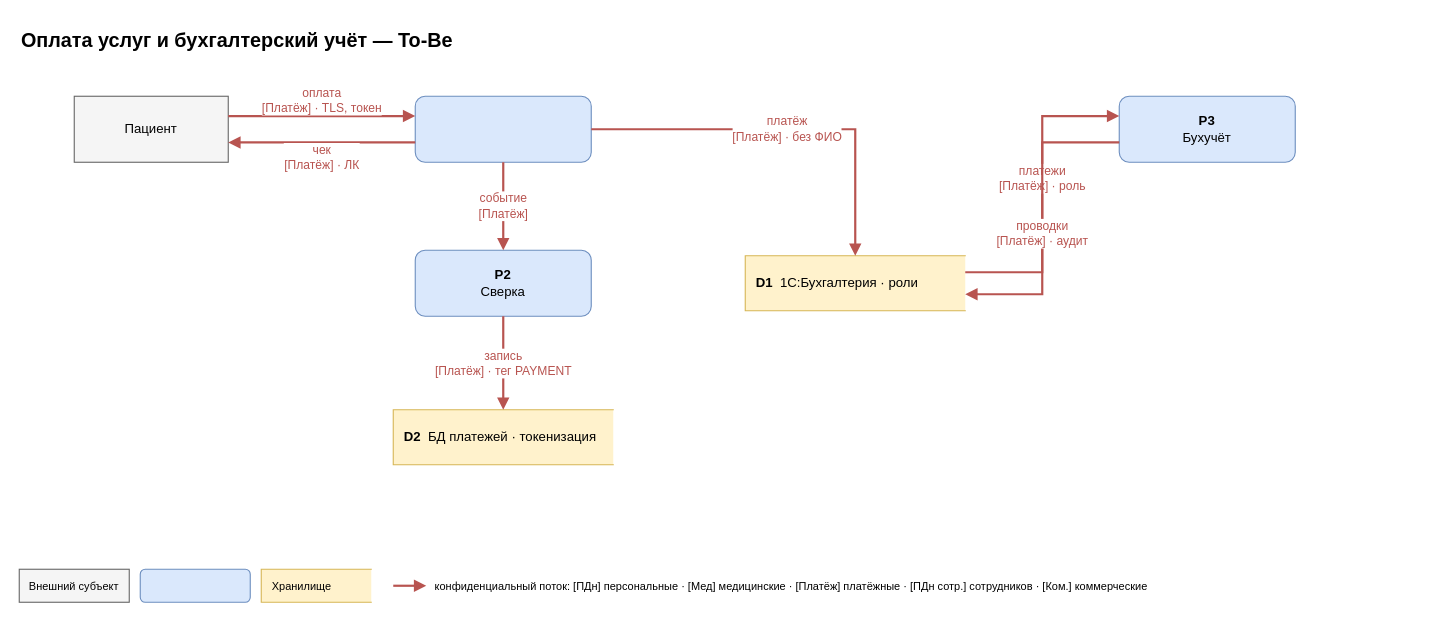
Image size: 1442x622. Some labels were removed from this diagram. Here are the shapes that lost their labels. From the top down, the centre of each, then its label:
At point 502,128: "P1 Оплата".
At point 194,585: "Процесс".
